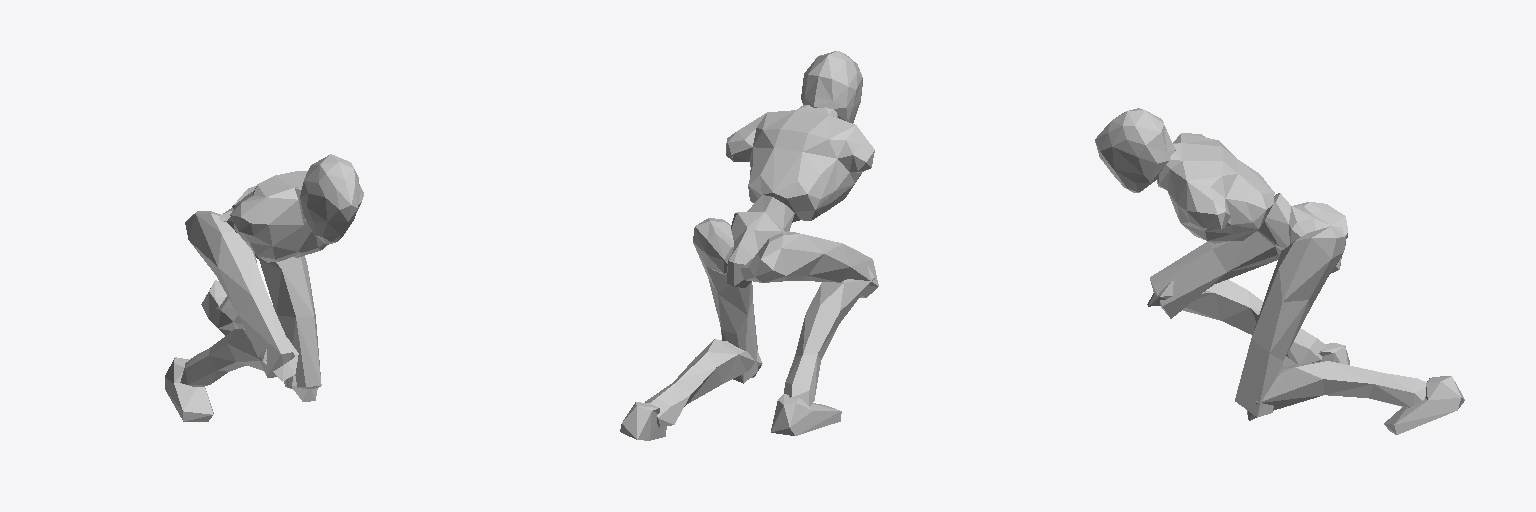
The model's file is filth20.obj.
3 renders of one model, left to right at view 1: azimuth 30°, elevation 25°; view 2: azimuth 150°, elevation 25°; view 3: azimuth 270°, elevation 25°, orthographic.
Visible parts, largest first — view 1: Melee_Husk; view 2: Melee_Husk; view 3: Melee_Husk.
Part boxes in pixels (x1,y1,x2,y2): Melee_Husk: (165, 154, 363, 421); Melee_Husk: (620, 51, 878, 440); Melee_Husk: (1095, 108, 1464, 434).
Bounding box in the file's own units: 22.16 × 43.2 × 48.53.